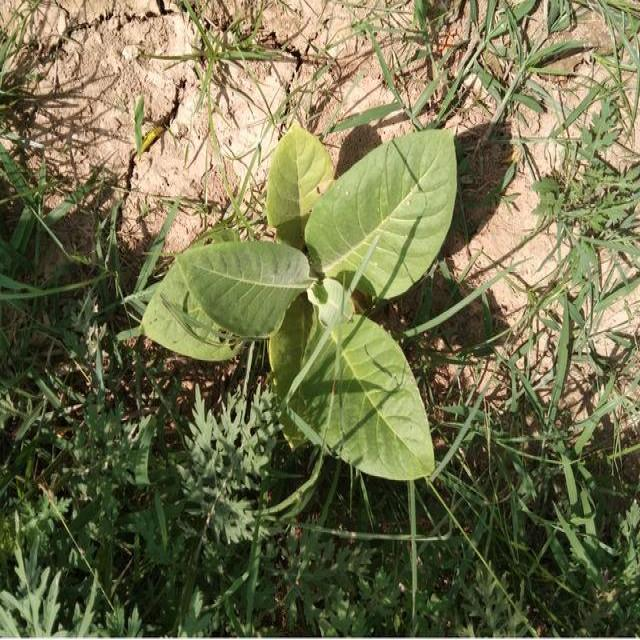crop: (148, 138, 458, 484)
